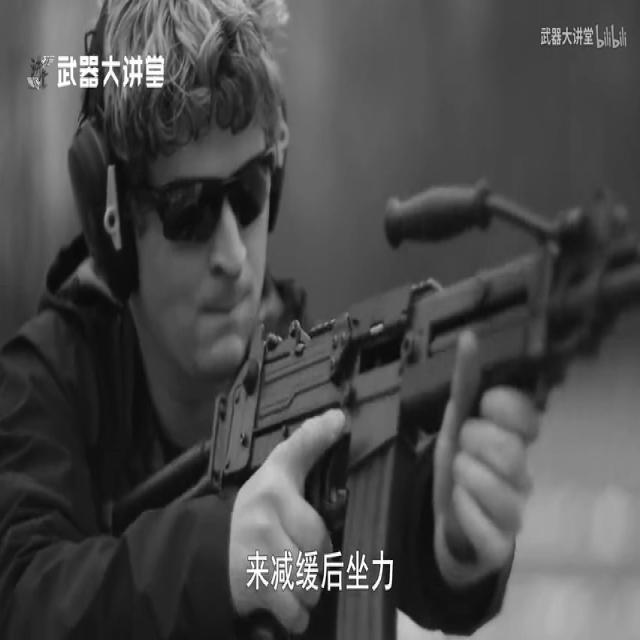Sniper: (20, 163, 640, 639)
